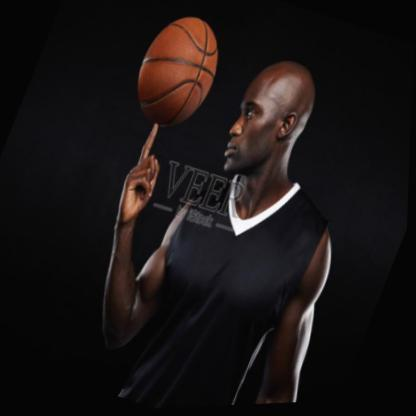basketball: (123, 6, 234, 139)
